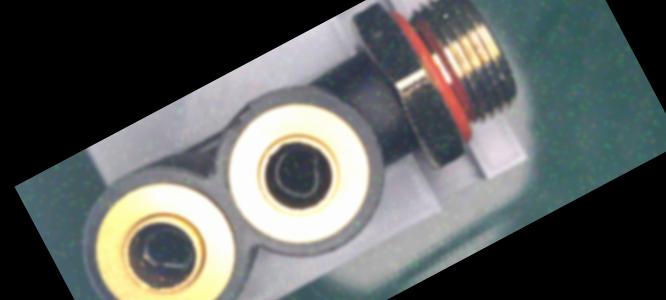off-centered: (254, 128, 340, 212), (130, 214, 203, 286)
white mark: (377, 105, 402, 130)
